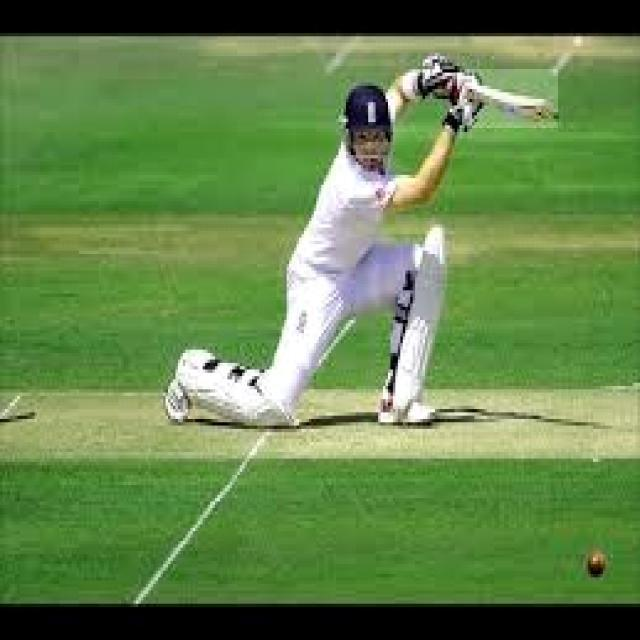bat: (459, 68, 560, 127)
toe: (536, 103, 562, 123)
